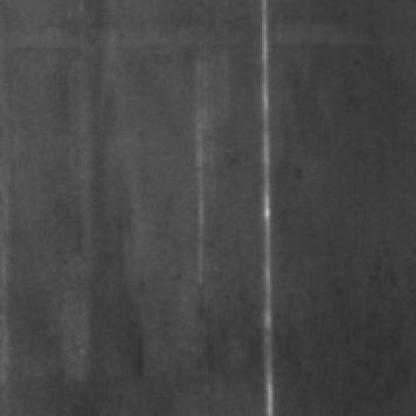scratches: (258, 2, 285, 414)
